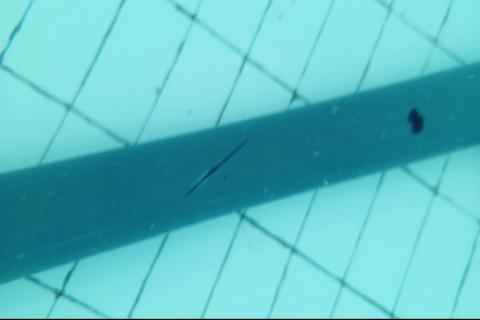kebocoran: (406, 106, 425, 135)
keretakan: (183, 135, 248, 198)
